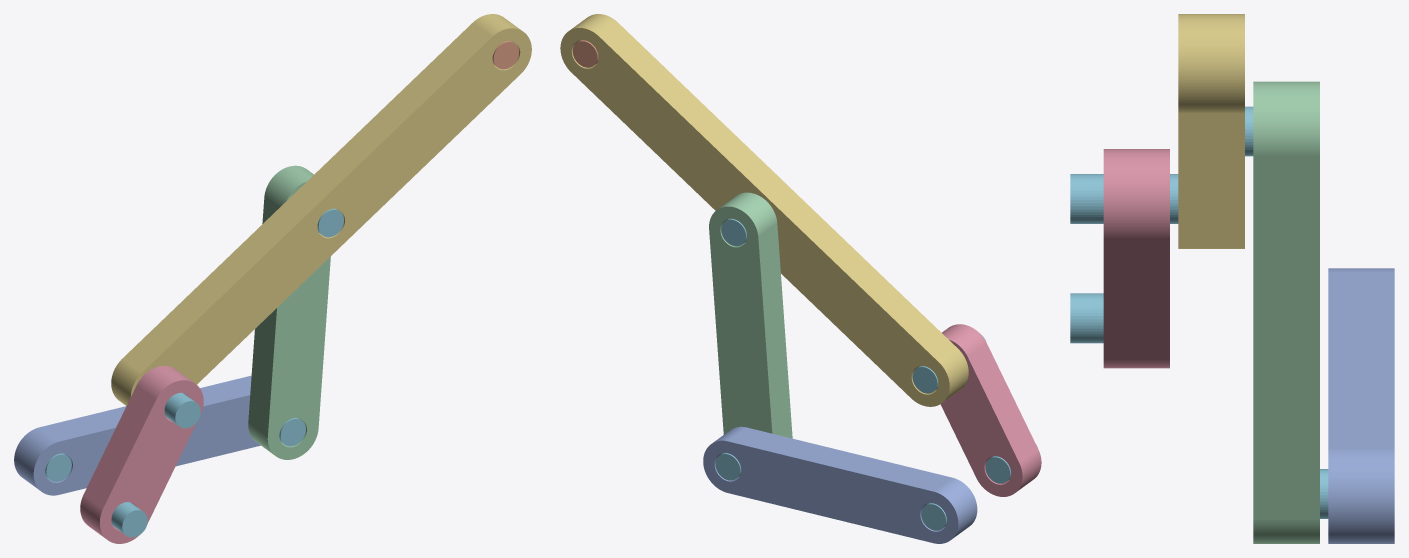
The model's file is four_bar_demo.glb.
3 renders of one model, left to right at view 1: azimuth 30°, elevation 25°; view 2: azimuth 150°, elevation 25°; view 3: azimuth 270°, elevation 25°, orthographic. The views are drawn at different scales.
Visible parts, largest first — view 1: coupler, rocker, crank, ground_link, pin_0, pin_2; view 2: coupler, ground_link, rocker, crank, pin_0, pin_2; view 3: rocker, ground_link, coupler, crank, pin_2, pin_0, pin_3, pin_1.
Boxes of the visible parts, x1,y1,x2,y2 form: coupler: (111, 14, 531, 405); rocker: (248, 165, 330, 459); crank: (80, 366, 203, 543); ground_link: (14, 375, 260, 495); pin_0: (45, 453, 147, 537); pin_2: (164, 392, 200, 428); coupler: (560, 14, 968, 406); ground_link: (703, 426, 977, 543); rocker: (709, 192, 792, 438); crank: (940, 324, 1041, 496); pin_0: (921, 444, 1037, 530); pin_2: (912, 333, 986, 393); rocker: (1253, 81, 1319, 543); ground_link: (1328, 268, 1394, 543); coupler: (1178, 14, 1244, 248); crank: (1103, 149, 1169, 368); pin_2: (1070, 174, 1178, 223); pin_0: (1070, 293, 1103, 343); pin_3: (1245, 106, 1253, 156); pin_1: (1320, 469, 1328, 518).
Bounding box in the file's own units: 53.53 × 45.03 × 19.5.
